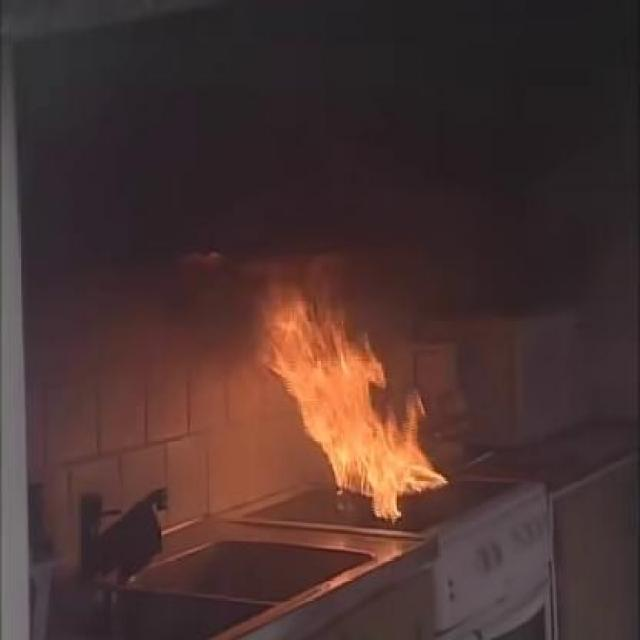fire: (264, 313, 433, 507)
smoke: (90, 293, 182, 436), (204, 286, 253, 452), (296, 224, 416, 287), (252, 438, 310, 492)
